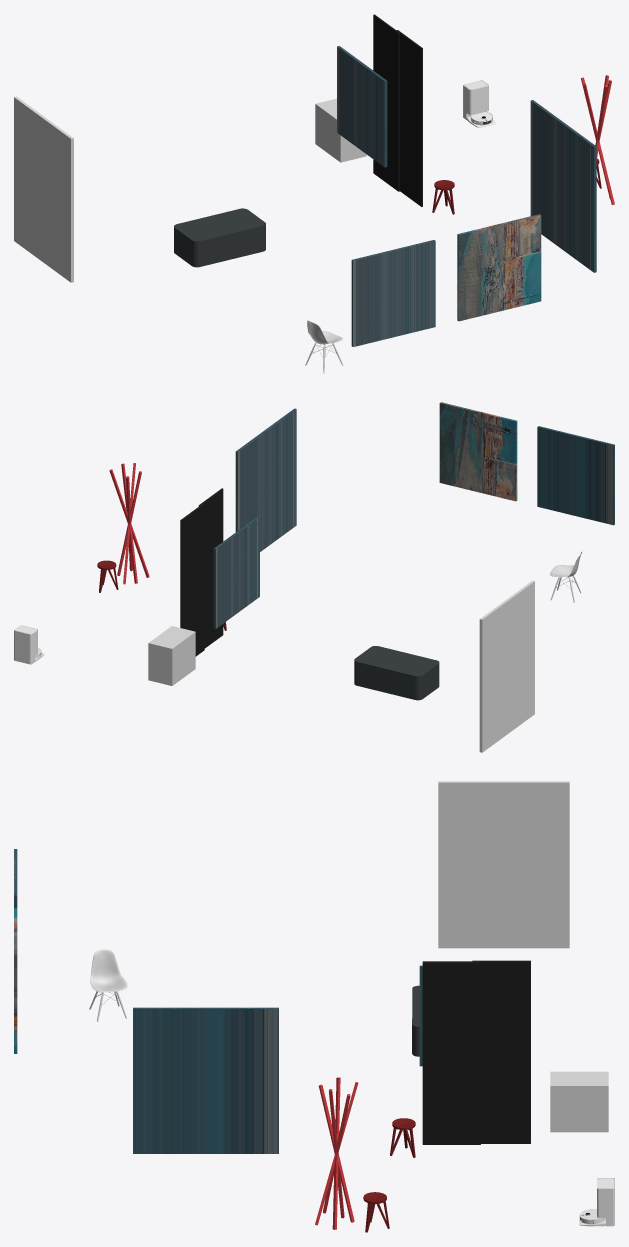
Rendered from EG_Möbel.gltf.
3 renders of one model, top to bottom at view 1: azimuth 30°, elevation 25°; view 2: azimuth 150°, elevation 25°; view 3: azimuth 270°, elevation 25°, orthographic. The views are drawn at different scales.
Parts seen in each view (by area): view 1: Curve.067, Gemälde.013, Gemälde.011, Gemälde.012, Gemälde.010, _Curve.012, Curve.065, Curve.068, Curve.066, Object_2.002, CoatRack.001, 3d-model.004; view 2: Curve.067, Gemälde.012, Gemälde.013, Gemälde.011, Gemälde.010, _Curve.012, Curve.068, Curve.066, Curve.065, CoatRack.001, Object_2.002, 3d-model.004; view 3: Curve.067, Gemälde.013, Curve.065, Curve.068, Curve.066, CoatRack.001, 3d-model.004, Object_2.002, Loehr.001.
Part boxes in pixels (x1=…): Curve.067: x1=14, y1=96, x2=73, y2=282; Gemälde.013: x1=530, y1=100, x2=596, y2=272; Gemälde.011: x1=351, y1=240, x2=435, y2=346; Gemälde.012: x1=457, y1=214, x2=541, y2=321; Gemälde.010: x1=337, y1=46, x2=387, y2=167; _Curve.012: x1=174, y1=208, x2=265, y2=267; Curve.065: x1=396, y1=30, x2=422, y2=206; Curve.068: x1=373, y1=14, x2=399, y2=191; Curve.066: x1=315, y1=98, x2=366, y2=162; Object_2.002: x1=463, y1=80, x2=495, y2=127; CoatRack.001: x1=581, y1=75, x2=614, y2=204; 3d-model.004: x1=305, y1=320, x2=343, y2=373; Curve.067: x1=479, y1=580, x2=534, y2=752; Gemälde.012: x1=439, y1=402, x2=517, y2=501; Gemälde.013: x1=235, y1=408, x2=296, y2=551; Gemälde.011: x1=537, y1=426, x2=614, y2=525; Gemälde.010: x1=213, y1=516, x2=259, y2=628; _Curve.012: x1=354, y1=646, x2=439, y2=700; Curve.068: x1=180, y1=503, x2=204, y2=656; Curve.066: x1=148, y1=626, x2=195, y2=685; Curve.065: x1=198, y1=488, x2=223, y2=648; CoatRack.001: x1=109, y1=463, x2=149, y2=584; Object_2.002: x1=14, y1=625, x2=43, y2=664; 3d-model.004: x1=550, y1=551, x2=582, y2=602; Curve.067: x1=438, y1=781, x2=569, y2=948; Gemälde.013: x1=133, y1=1007, x2=278, y2=1153; Curve.065: x1=422, y1=961, x2=480, y2=1144; Curve.068: x1=472, y1=960, x2=530, y2=1143; Curve.066: x1=550, y1=1071, x2=608, y2=1132; CoatRack.001: x1=315, y1=1077, x2=358, y2=1229; 3d-model.004: x1=89, y1=949, x2=127, y2=1021; Object_2.002: x1=579, y1=1178, x2=614, y2=1226; Loehr.001: x1=390, y1=1118, x2=415, y2=1157.
Bounding box in the file's own units: 9.09 × 2.78 × 8.22.
26 materials, 1 textured.
